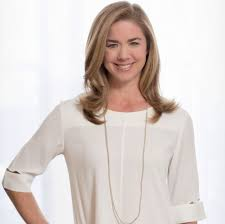white_female: (104, 16, 152, 76)
